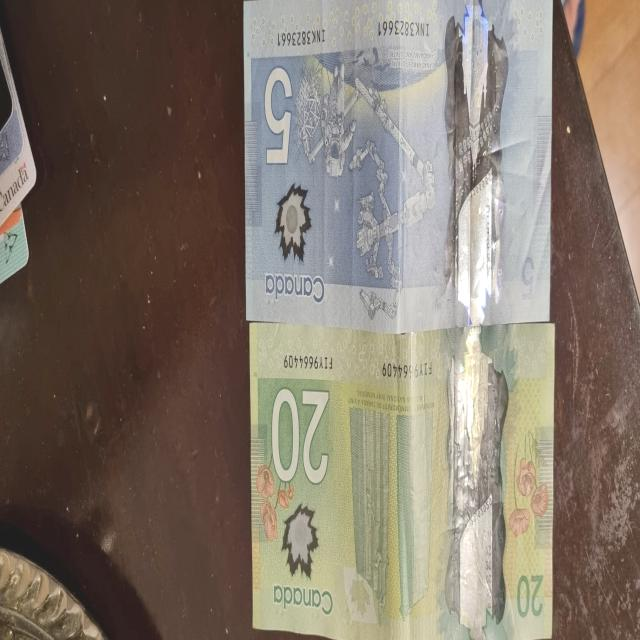20 cad: (252, 325, 553, 640)
5 cad: (244, 2, 548, 316)
